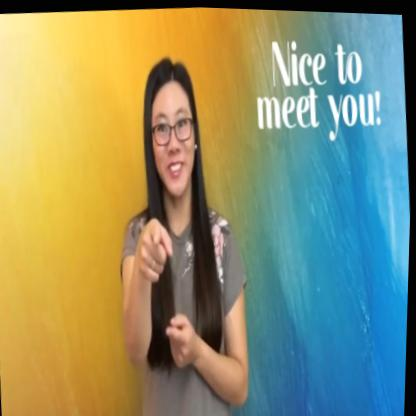NiceToMeetYou: (125, 206, 216, 392)
